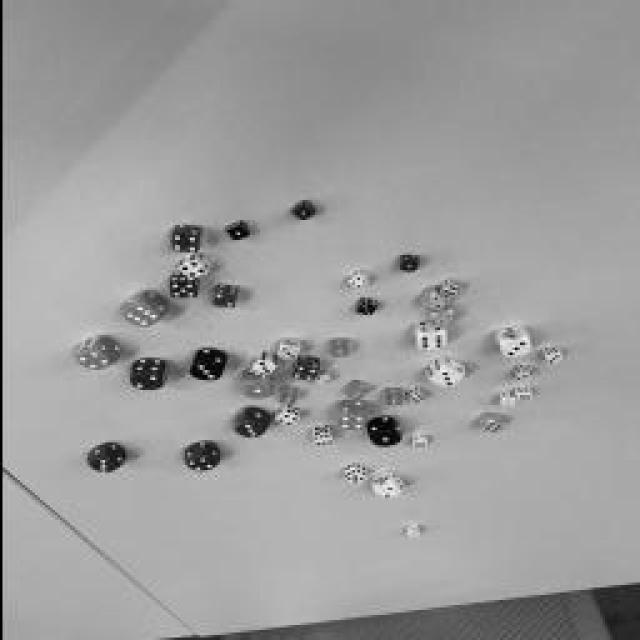dice_1: (242, 382, 270, 398), (372, 433, 396, 445), (226, 226, 246, 239), (292, 206, 312, 219), (399, 261, 416, 271), (501, 400, 514, 405), (408, 532, 418, 538)
dice_2: (130, 374, 160, 388), (213, 292, 235, 308), (425, 296, 445, 309), (376, 488, 399, 498), (432, 315, 452, 325), (315, 376, 330, 384)
dice_3: (191, 362, 219, 380), (431, 372, 459, 386), (502, 340, 528, 355), (238, 422, 262, 438), (90, 458, 115, 472), (252, 361, 272, 374), (356, 305, 374, 315), (277, 348, 295, 358), (545, 352, 560, 362), (385, 397, 400, 405), (515, 372, 530, 380)
dice_4: (76, 351, 109, 369), (178, 261, 208, 279), (170, 234, 195, 251), (336, 415, 364, 430), (290, 365, 315, 380), (185, 458, 210, 472), (275, 413, 297, 425), (345, 389, 365, 399), (349, 278, 366, 288)
dice_5: (170, 282, 195, 298), (345, 474, 365, 484)
dice_6: (124, 305, 158, 325), (418, 334, 442, 348), (440, 284, 460, 296), (311, 434, 331, 444), (482, 422, 500, 432), (330, 346, 348, 356), (277, 395, 295, 405), (410, 392, 425, 402), (515, 394, 530, 401), (413, 442, 425, 448)
